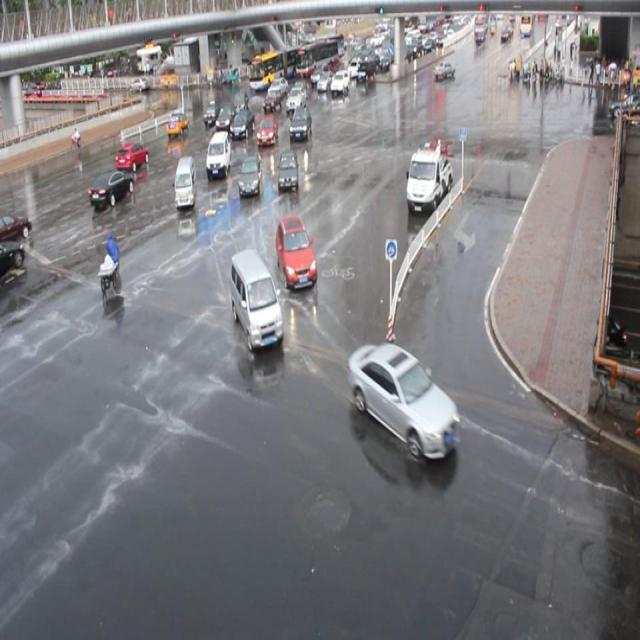bus: (404, 146, 452, 213)
car: (349, 341, 462, 459), (275, 215, 318, 288), (89, 170, 134, 206), (0, 209, 32, 247), (238, 156, 264, 195), (1, 238, 25, 279), (116, 142, 149, 171), (277, 150, 300, 190), (288, 108, 312, 140), (230, 110, 256, 137), (256, 115, 278, 145), (166, 110, 190, 135), (215, 106, 238, 130), (284, 86, 306, 110), (262, 89, 283, 111), (203, 101, 222, 124), (267, 77, 288, 97), (232, 90, 250, 111)
truck: (230, 249, 285, 351), (174, 155, 198, 208), (205, 130, 231, 176)
